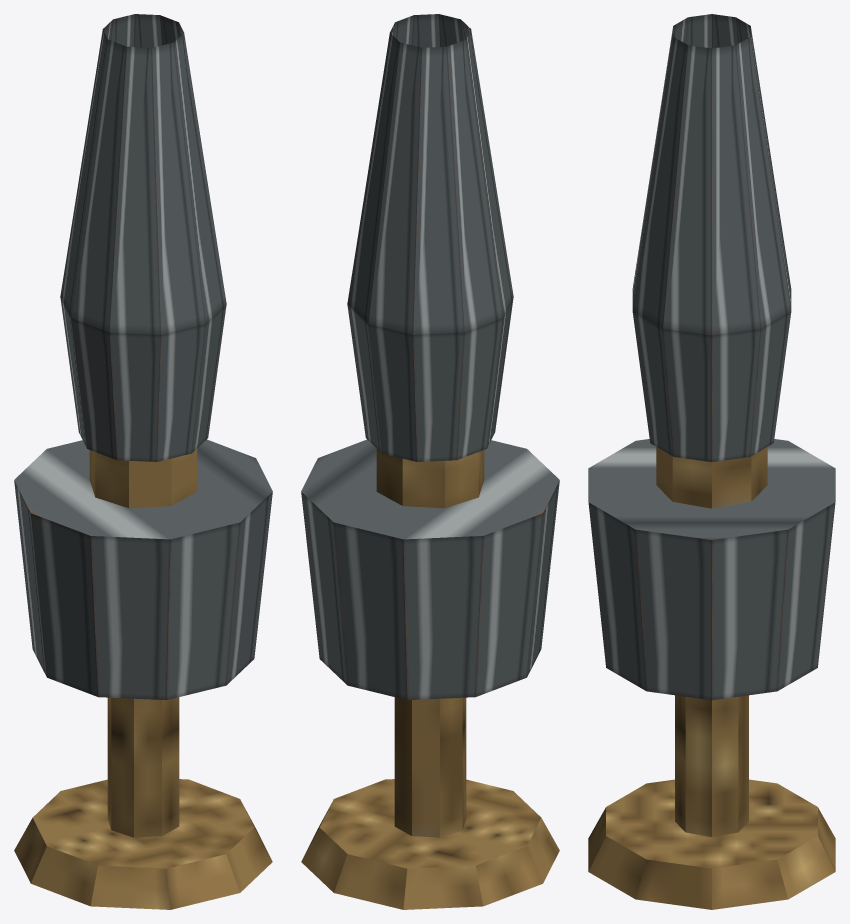
Rendered from Atmos_Oil_Lamp.fbx.
The picture shows the model from 3 angles, left to right: view 1: azimuth 30°, elevation 25°; view 2: azimuth 150°, elevation 25°; view 3: azimuth 270°, elevation 25°; orthographic projection.
Visible parts, largest first — view 1: Atmos_Oil_Lamp; view 2: Atmos_Oil_Lamp; view 3: Atmos_Oil_Lamp.
Part boxes in pixels (x1,y1,x2,y2): Atmos_Oil_Lamp: (14,14,272,909); Atmos_Oil_Lamp: (301,14,559,909); Atmos_Oil_Lamp: (588,14,835,909).
Bounding box in the file's own units: 14 × 49 × 13.31.
